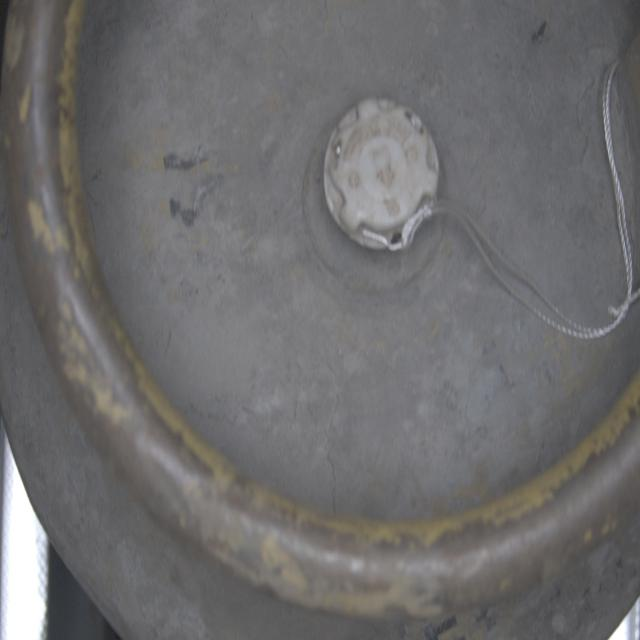Cap: (321, 90, 441, 258)
